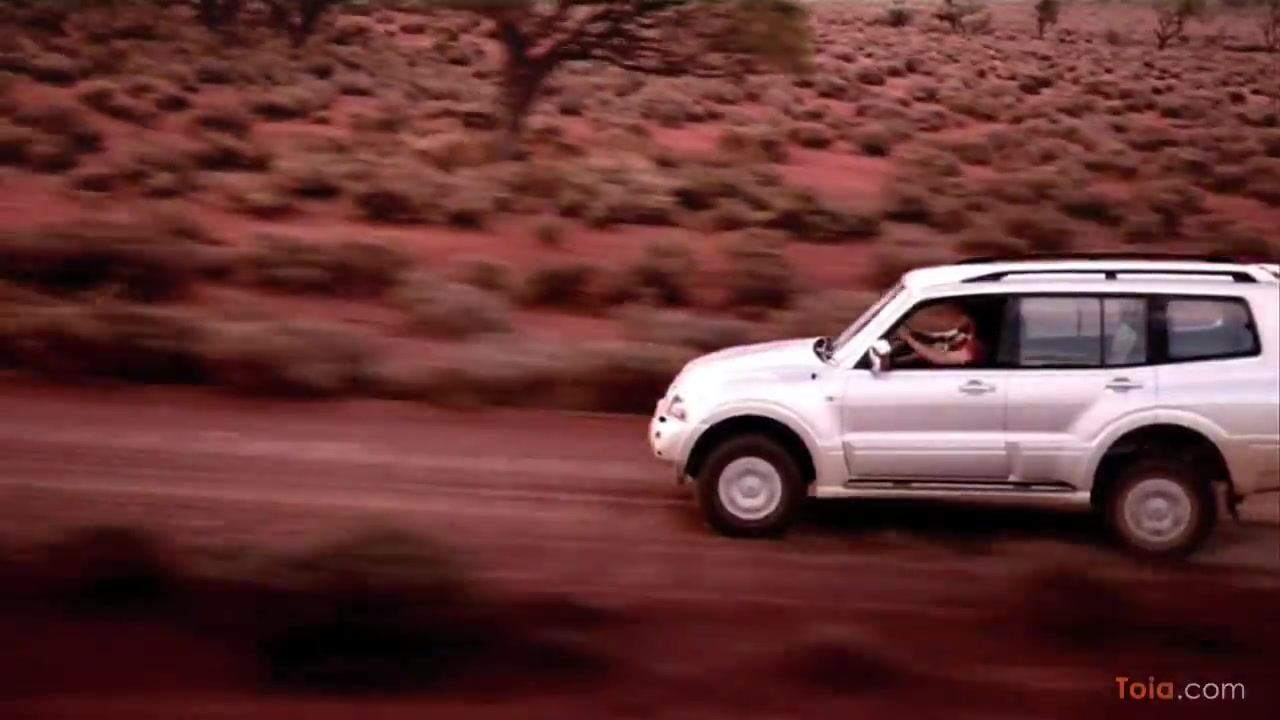car: (639, 258, 1280, 570)
